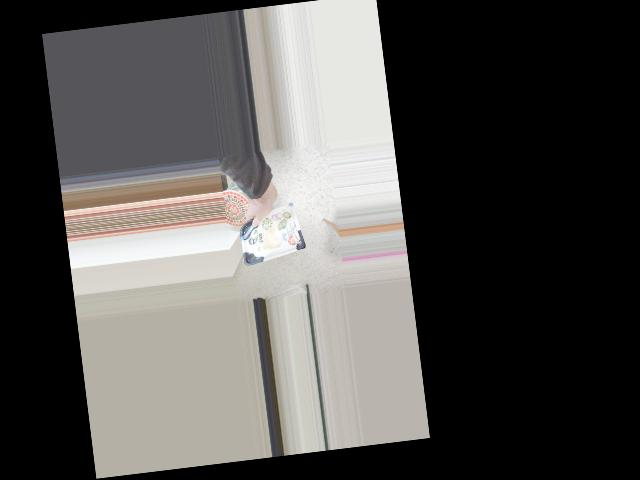cheese: (246, 194, 299, 248)
